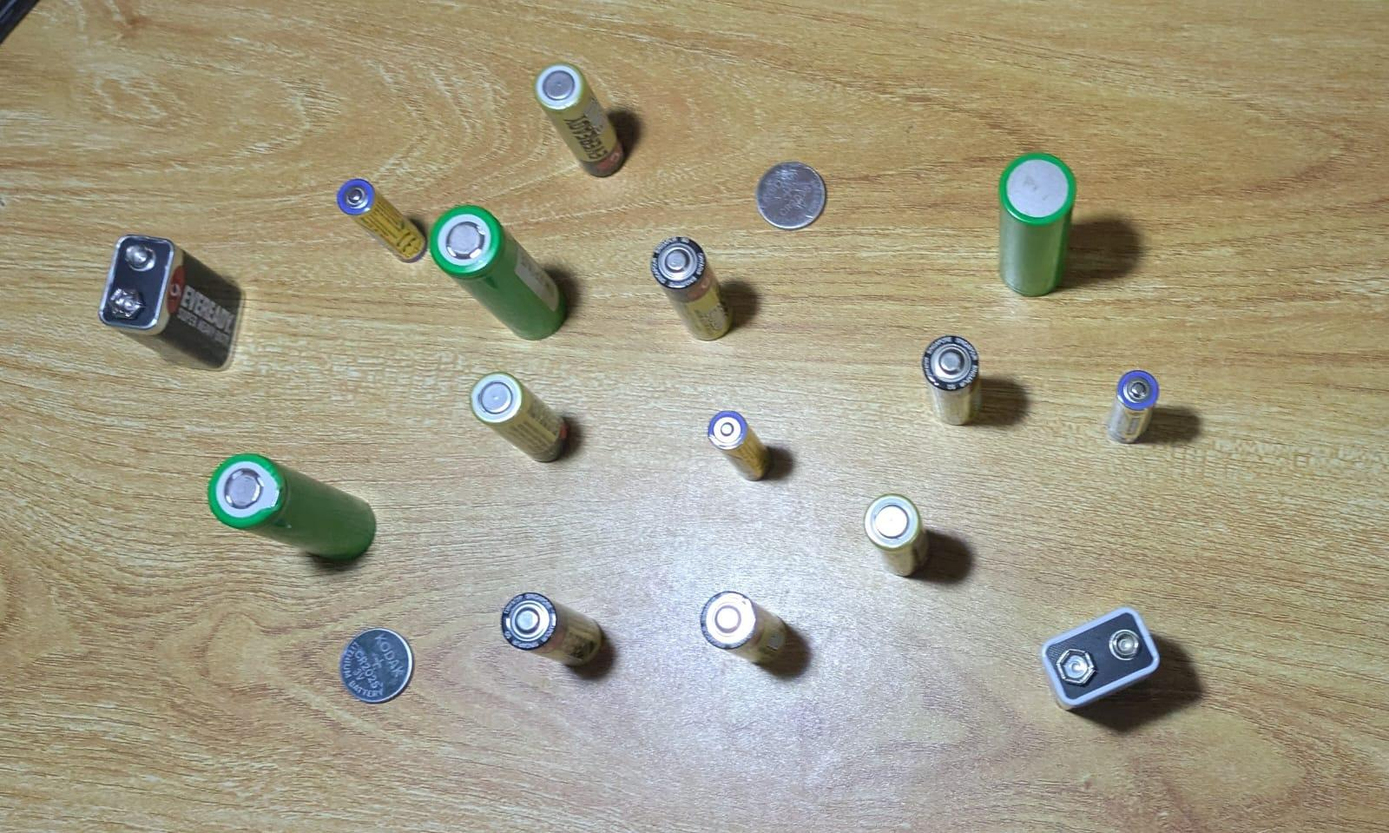9V: (97, 233, 240, 367), (1032, 600, 1181, 715)
AA: (530, 58, 637, 176), (651, 227, 742, 354), (470, 369, 576, 471), (498, 591, 602, 668), (700, 586, 786, 666), (921, 336, 982, 427), (864, 491, 922, 579)
AAA: (337, 172, 433, 266), (705, 408, 780, 485), (1106, 369, 1163, 448)
COIN: (338, 627, 415, 703), (753, 161, 827, 231)
